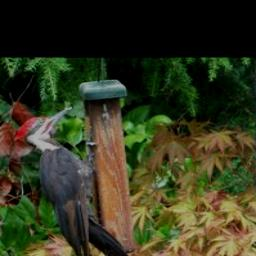Woodpecker: (13, 105, 139, 256)
